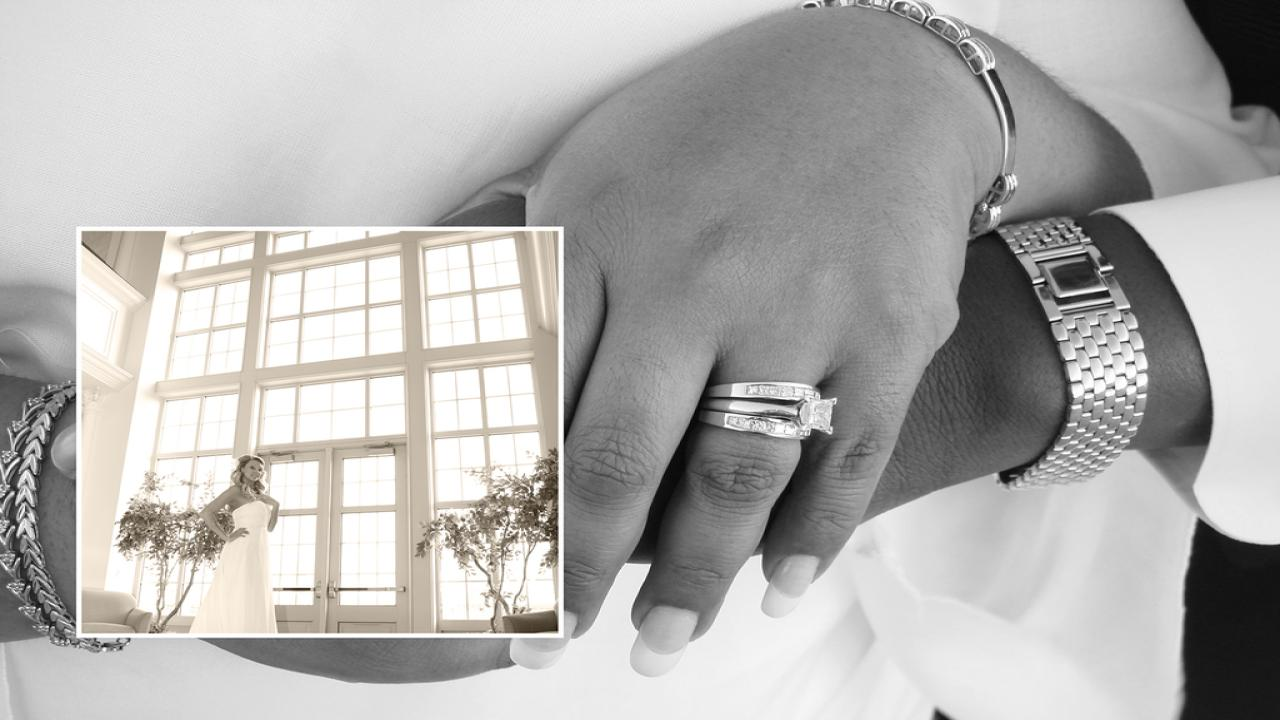ring: (704, 380, 841, 439)
